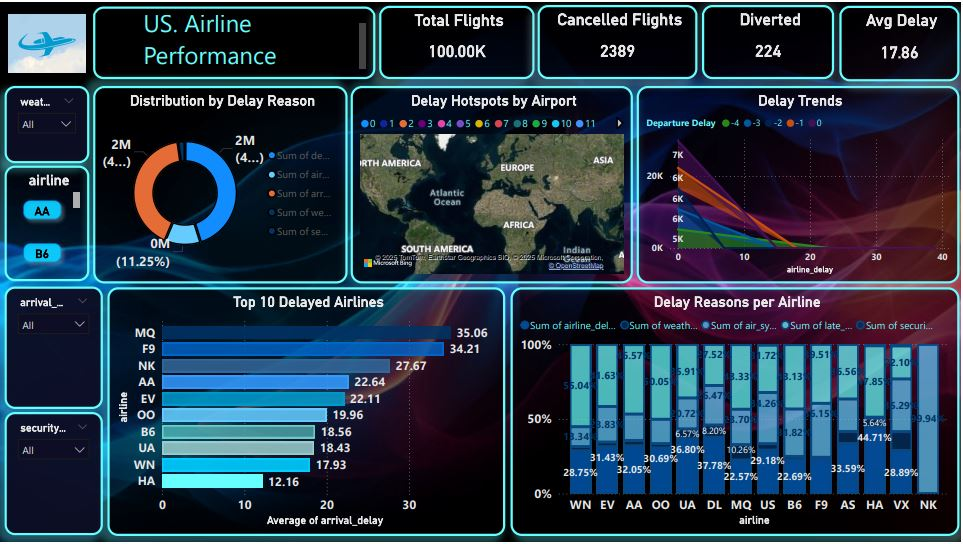

Layout of this report page (visuals, bound fields, positions):
{"tool":"powerbi","page":{"name":"Dashboard1","canvas":[1280,720],"ordinal":6},"visuals":[{"type":"hundredPercentStackedColumnChart","title":"Delay Reasons per Airline","fields":{"Category":["flights_cleaned.airline"],"Y":["Sum(flights_cleaned.airline_delay)","Sum(flights_cleaned.weather_delay)","Sum(flights_cleaned.air_system_delay)","Sum(flights_cleaned.late_aircraft_delay)","Sum(flights_cleaned.security_delay)"]},"box":[680,381.1,597.8,331.1],"z":0},{"type":"card","title":"Total Flights","fields":{"Values":["CountNonNull(flights_cleaned.flight_number)"]},"box":[504.6,5.2,207.1,98.6],"z":1000,"group":"g1"},{"type":"clusteredBarChart","title":"Top 10 Delayed Airlines","fields":{"Category":["flights_cleaned.airline"],"Y":["Avg(flights_cleaned.arrival_delay)"]},"box":[143.3,381.1,530,331.1],"z":1000},{"type":"donutChart","title":"Distribution by Delay Reason","fields":{"Y":["Sum(flights_cleaned.departure_delay)","Sum(flights_cleaned.air_system_delay)","Sum(flights_cleaned.arrival_delay)","Sum(flights_cleaned.weather_delay)","Sum(flights_cleaned.security_delay)"]},"box":[124.3,112.9,338.6,262.9],"z":2000},{"type":"card","title":"Cancelled Flights","fields":{"Values":["Sum(flights_cleaned.cancelled)"]},"box":[716,3.8,212.9,100],"z":3000,"group":"g1"},{"type":"stackedAreaChart","title":"Delay Trends","fields":{"Category":["flights_cleaned.airline_delay"],"Series":["flights_cleaned.departure_delay"],"Y":["CountNonNull(flights_cleaned.day)"]},"box":[847.8,113.3,430,262.2],"z":3000},{"type":"filledMap","title":"Delay Hotspots by Airport","fields":{"X":["Avg(airports.LONGITUDE)"],"Y":["Avg(airports.LATITUDE)"],"Series":["flights_cleaned.airline_delay"]},"box":[467.1,112.9,375.7,262.9],"z":4000},{"type":"card","title":"Diverted","fields":{"Values":["Sum(flights_cleaned.diverted)"]},"box":[934.6,3.8,175.7,100],"z":5000,"group":"g1"},{"type":"advancedSlicerVisual","fields":{"Values":["flights_cleaned.airline"]},"box":[5.7,218.6,112.9,154.3],"z":5000},{"type":"slicer","fields":{"Values":["flights_cleaned.weather_delay"]},"box":[5.7,112.9,112.9,102.9],"z":6000},{"type":"card","title":"Avg Delay","fields":{"Values":["Avg(flights_cleaned.arrival_delay)"]},"box":[1117.9,4.4,160,102.2],"z":7000,"group":"g1"},{"type":"slicer","fields":{"Values":["flights_cleaned.arrival_delay"]},"box":[5.7,380,131.4,162.9],"z":7000},{"type":"slicer","fields":{"Values":["flights_cleaned.security_delay"]},"box":[5.7,547.1,131.4,164.3],"z":8000},{"type":"group","id":"g1","title":"Group 1","box":[504.6,3.8,773.3,102.9],"z":9000},{"type":"textbox","box":[124.3,5.7,375.7,98.6],"z":10000},{"type":"image","box":[5.7,0,112.9,112.9],"z":11000}]}

Visuals, with their boxes in screenshot pixels (x1, y1, x2, y2), scaled from the page's 1280x720 canvas onto the 963x544 screenshot:
"Delay Reasons per Airline" hundredPercentStackedColumnChart: 512, 288, 961, 538
"Total Flights" card: 380, 4, 535, 78
"Top 10 Delayed Airlines" clusteredBarChart: 108, 288, 507, 538
"Distribution by Delay Reason" donutChart: 94, 85, 348, 284
"Cancelled Flights" card: 539, 3, 699, 78
"Delay Trends" stackedAreaChart: 638, 86, 961, 284
"Delay Hotspots by Airport" filledMap: 351, 85, 634, 284
"Diverted" card: 703, 3, 835, 78
advancedSlicerVisual - flights_cleaned.airline: 4, 165, 89, 282
slicer - flights_cleaned.weather_delay: 4, 85, 89, 163
"Avg Delay" card: 841, 3, 961, 81
slicer - flights_cleaned.arrival_delay: 4, 287, 103, 410
slicer - flights_cleaned.security_delay: 4, 413, 103, 538
"Group 1" group: 380, 3, 961, 81
textbox: 94, 4, 376, 79
image: 4, 0, 89, 85
